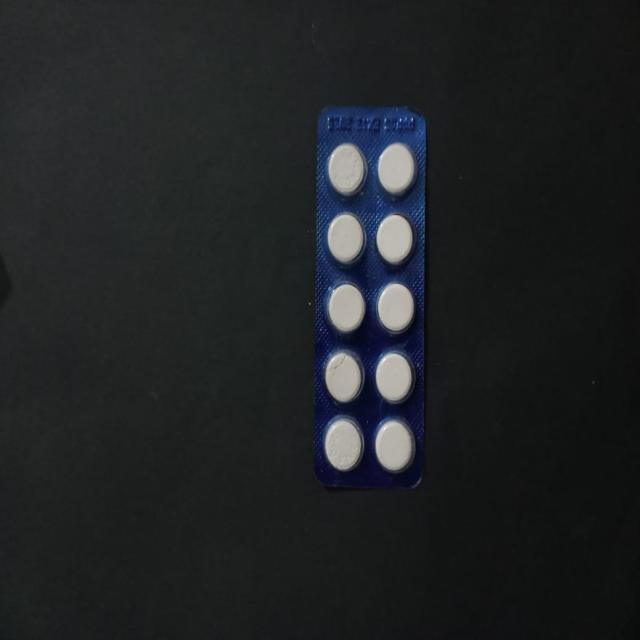defect: (323, 349, 366, 406)
